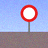sign: (21, 5, 38, 35)
